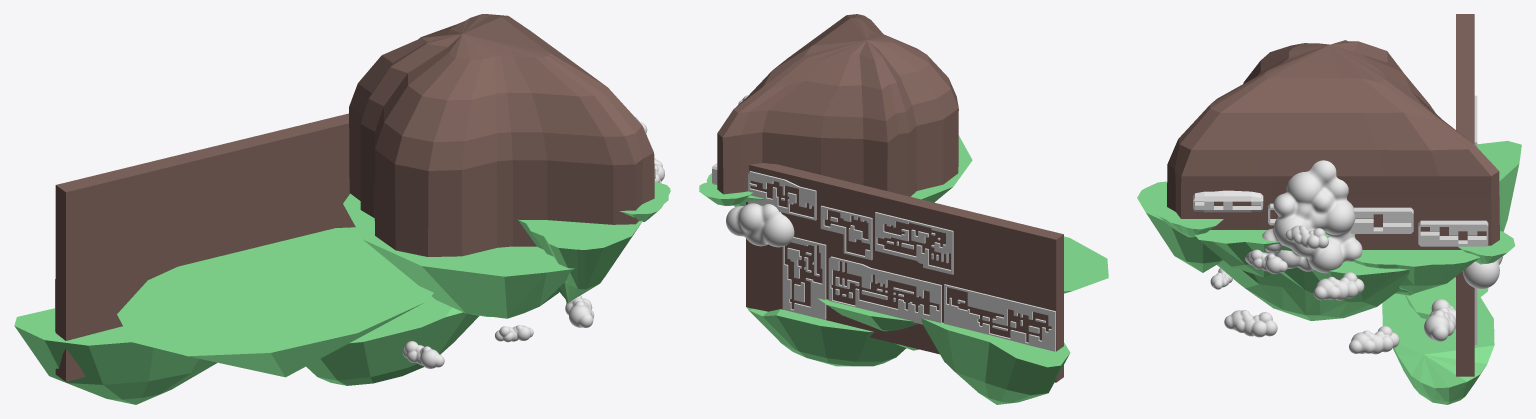
The model's file is level1.fbx.
3 views of the same model, side by side, from view 1: azimuth 30°, elevation 25°; view 2: azimuth 150°, elevation 25°; view 3: azimuth 270°, elevation 25° (orthographic). The views are drawn at different scales.
Parts seen in each view (by area): view 1: Cylinder, Wall, Cone.002, BigCone, Cone.001, Cone, BottomLeftCone, Mball.005, TopFarLeftCone, Mball.001; view 2: Cylinder, Wall, Cone.001, Cone, Puzzle 5, Puzzle 6, Puzzle 4, puzzle1cloud1, Puzzle 3, Cone.002, Puzzle 1, Cone.003 (+3 smaller); view 3: Cylinder, Mball.023, Cone, BigCone, Puzzle, Wall, FrontRightCone, BottomLeftCone, FrontLeftCone, Cone.001, Cone.003, Mball.001 (+8 smaller).
Part boxes in pixels (left/top/right/bottom): Cylinder: left=349, top=14, right=654, bottom=256; Wall: left=55, top=113, right=355, bottom=381; Cone.002: left=117, top=227, right=433, bottom=377; BigCone: left=343, top=193, right=574, bottom=318; Cone.001: left=14, top=308, right=217, bottom=404; Cone: left=306, top=296, right=479, bottom=385; BottomLeftCone: left=518, top=219, right=642, bottom=302; Mball.005: left=402, top=341, right=444, bottom=368; TopFarLeftCone: left=619, top=182, right=670, bottom=221; Mball.001: left=565, top=295, right=594, bottom=327; Cylinder: left=717, top=14, right=958, bottom=196; Wall: left=746, top=163, right=1063, bottom=382; Cone.001: left=921, top=318, right=1070, bottom=404; Cone: left=747, top=307, right=906, bottom=366; Puzzle 5: left=828, top=256, right=941, bottom=324; Puzzle 6: left=944, top=284, right=1055, bottom=351; Puzzle 4: left=782, top=237, right=826, bottom=319; puzzle1cloud1: left=726, top=203, right=794, bottom=247; Puzzle 3: left=875, top=212, right=953, bottom=274; Cone.002: left=1064, top=236, right=1108, bottom=293; Puzzle 1: left=748, top=171, right=816, bottom=220; Cone.003: left=817, top=298, right=919, bottom=350; Cylinder: left=1167, top=40, right=1499, bottom=249; Mball.023: left=1245, top=160, right=1362, bottom=273; Cone: left=1382, top=293, right=1494, bottom=404; BigCone: left=1217, top=260, right=1409, bottom=320; Puzzle: left=1193, top=190, right=1488, bottom=246; Wall: left=1456, top=14, right=1474, bottom=376; FrontRightCone: left=1354, top=250, right=1479, bottom=293; BottomLeftCone: left=1137, top=181, right=1222, bottom=272; FrontLeftCone: left=1195, top=230, right=1329, bottom=277; Cone.001: left=1477, top=140, right=1521, bottom=231; Cone.003: left=1405, top=277, right=1488, bottom=318; Mball.001: left=1224, top=310, right=1277, bottom=337.
Size of the model in its own units: 6245 by 4192 by 4093.
